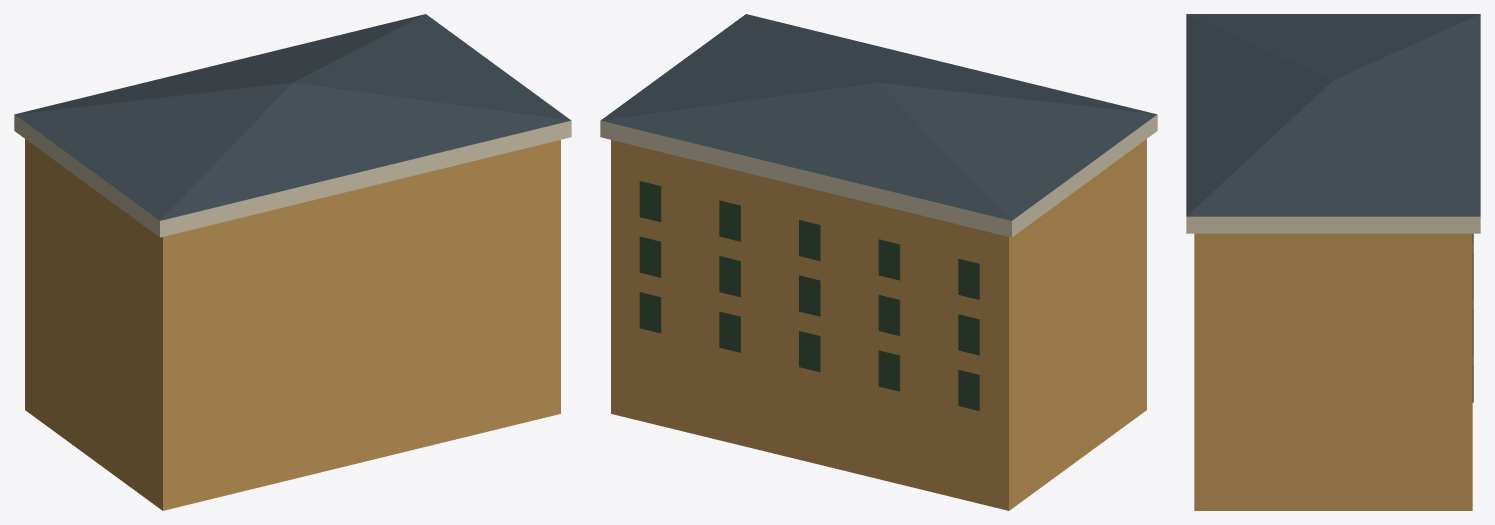
Rendered from d-it-01-po-palazzo.glb.
The picture shows the model from 3 angles, left to right: view 1: azimuth 30°, elevation 25°; view 2: azimuth 150°, elevation 25°; view 3: azimuth 270°, elevation 25°; orthographic projection.
Visible parts, largest first — view 1: part0, part17, part16; view 2: part0, part17, part16, part10, part15, part2, part12, part5, part7, part1, part3, part8 (+6 smaller); view 3: part0, part17, part16.
Boxes of the visible parts, x1,y1,x2,y2 form: part0: (25, 139, 560, 510); part17: (15, 14, 570, 220); part16: (14, 114, 571, 237); part0: (611, 139, 1146, 510); part17: (601, 14, 1156, 220); part16: (600, 114, 1157, 237); part10: (639, 236, 661, 277); part15: (639, 180, 661, 222); part2: (878, 350, 900, 391); part12: (878, 239, 900, 280); part5: (639, 292, 661, 333); part7: (878, 294, 900, 335); part1: (958, 369, 979, 410); part3: (799, 330, 820, 371); part8: (799, 275, 820, 316); part0: (1194, 233, 1472, 510); part17: (1186, 14, 1480, 216); part16: (1186, 216, 1480, 233).
Size of the model in its own units: 31000 by 23700 by 19000.
